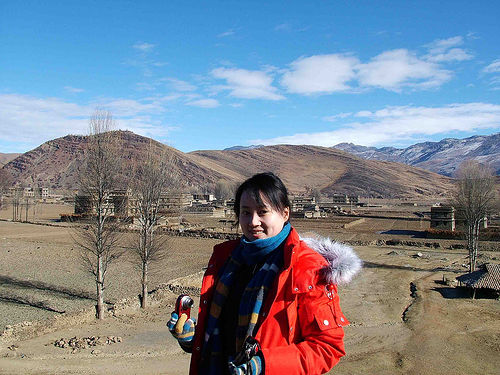without_mask: (230, 184, 291, 246)
